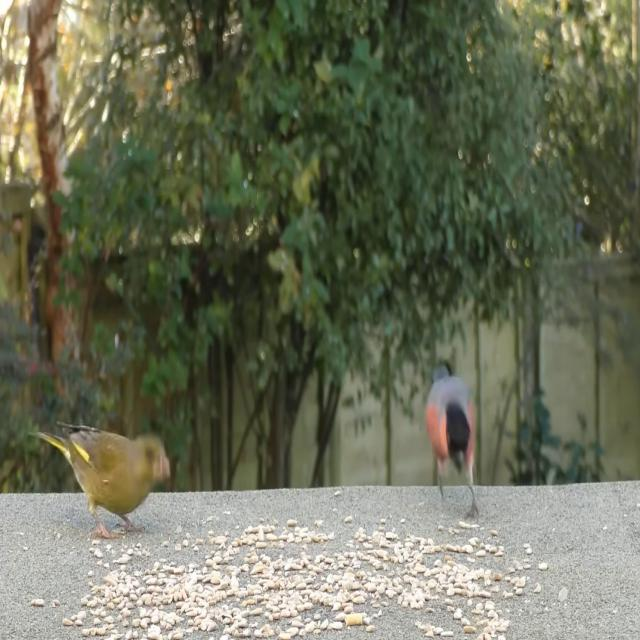beak: (158, 451, 172, 481), (453, 452, 466, 477)
bird: (32, 415, 173, 544), (422, 362, 486, 525)
